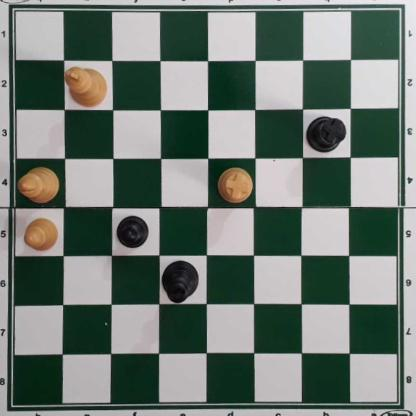black-king: (161, 261, 200, 305)
black-pawn: (117, 216, 149, 251)
black-rook: (306, 116, 347, 153)
white-bishop: (16, 167, 60, 205)
white-king: (65, 67, 108, 108)
white-pawn: (24, 217, 60, 252)
white-rook: (217, 167, 254, 204)
